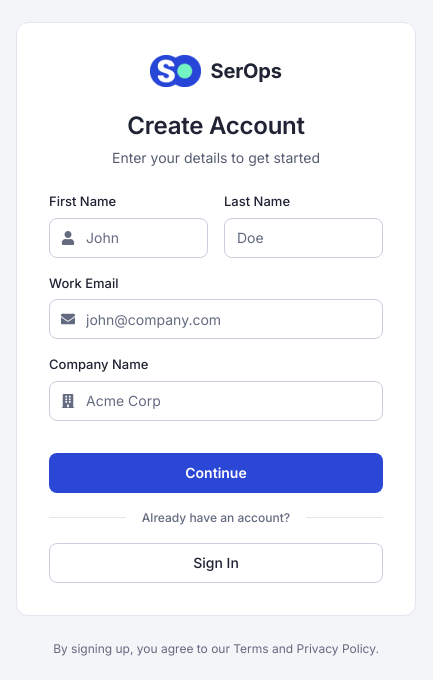
Test: Register › says to check the email after an emailed sign-up (B1)
Type "Ada" into the field labelled "First Name".
click(128, 238); type("Ada")  # box x1=49 y1=218 x2=208 y2=258
Type "Admin" into the field labelled "Last Name".
click(304, 238); type("Admin")  # box x1=224 y1=218 x2=383 y2=258
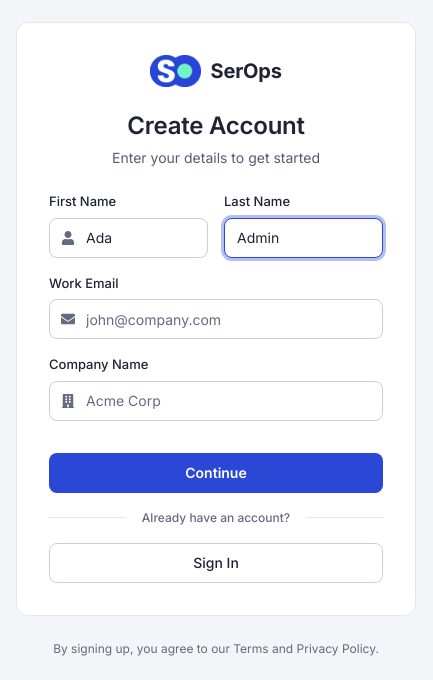
Type "ada@acme.test" into the field labelled "Work Email".
click(216, 319); type("ada@acme.test")  # box x1=49 y1=299 x2=383 y2=339
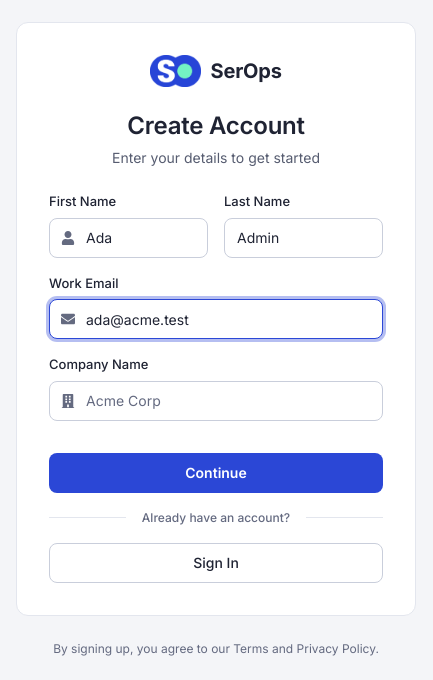
Type "Acme" into the field labelled "Company Name".
click(216, 401); type("Acme")  # box x1=49 y1=381 x2=383 y2=421
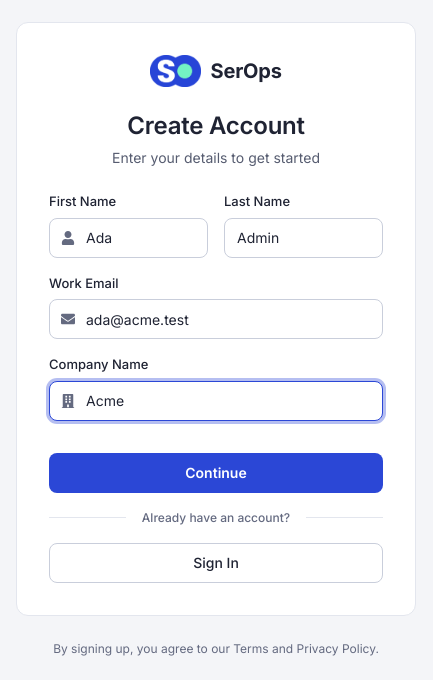
Click the button "Continue".
click(216, 473)  # box x1=49 y1=453 x2=383 y2=493
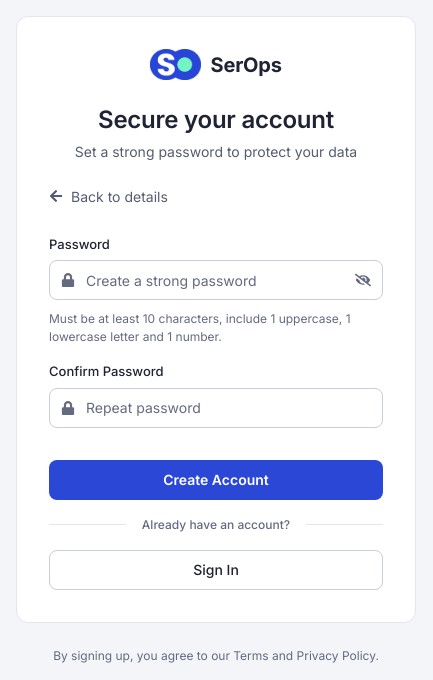
Type "Str0ngPassw0rd" into the password field labelled "Password".
click(216, 280); type("Str0ngPassw0rd")  # box x1=49 y1=260 x2=383 y2=300
Type "Str0ngPassw0rd" into the password field labelled "Confirm Password".
click(216, 408); type("Str0ngPassw0rd")  # box x1=49 y1=388 x2=383 y2=428
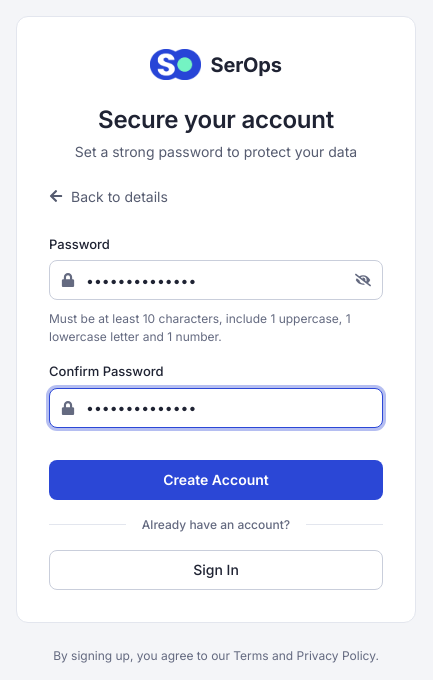
Click the button "Create Account".
click(216, 480)  # box x1=49 y1=460 x2=383 y2=500
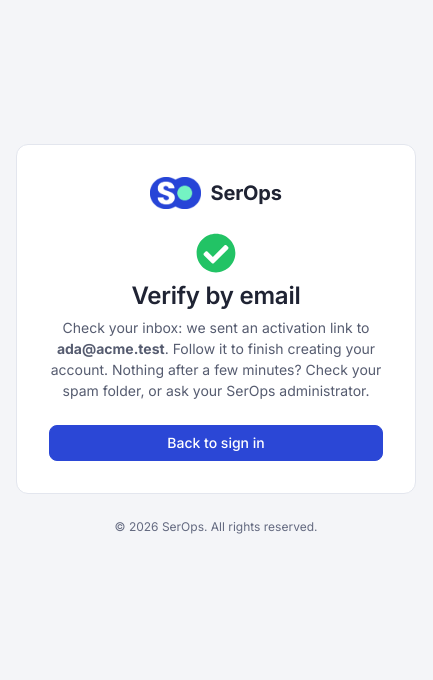
expect the heading "Verify by email" is shown: met, box x1=132 y1=281 x2=300 y2=310
expect the text "ada@acme.test" is shown: met, box x1=57 y1=340 x2=165 y2=357
